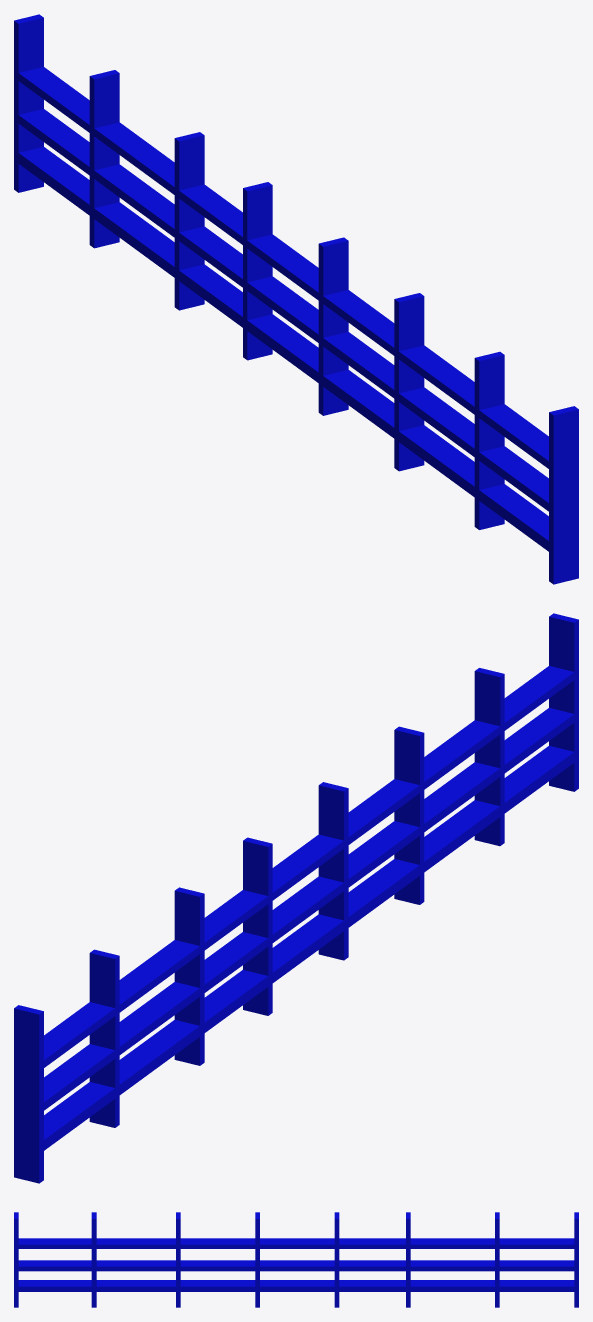
Rendered from plane.021_lev3.glb.
3 renders of one model, top to bottom at view 1: azimuth 30°, elevation 25°; view 2: azimuth 150°, elevation 25°; view 3: azimuth 270°, elevation 25°, orthographic. The views are drawn at different scales.
Visible parts, largest first — view 1: plane.021_lev3; view 2: plane.021_lev3; view 3: plane.021_lev3.
Boxes of the visible parts, bbox=[...] form: plane.021_lev3: bbox=[14, 14, 578, 584]; plane.021_lev3: bbox=[14, 613, 578, 1183]; plane.021_lev3: bbox=[14, 1212, 578, 1307].
Size of the model in its own units: 0.0612 by 0.3895 by 2.25.
